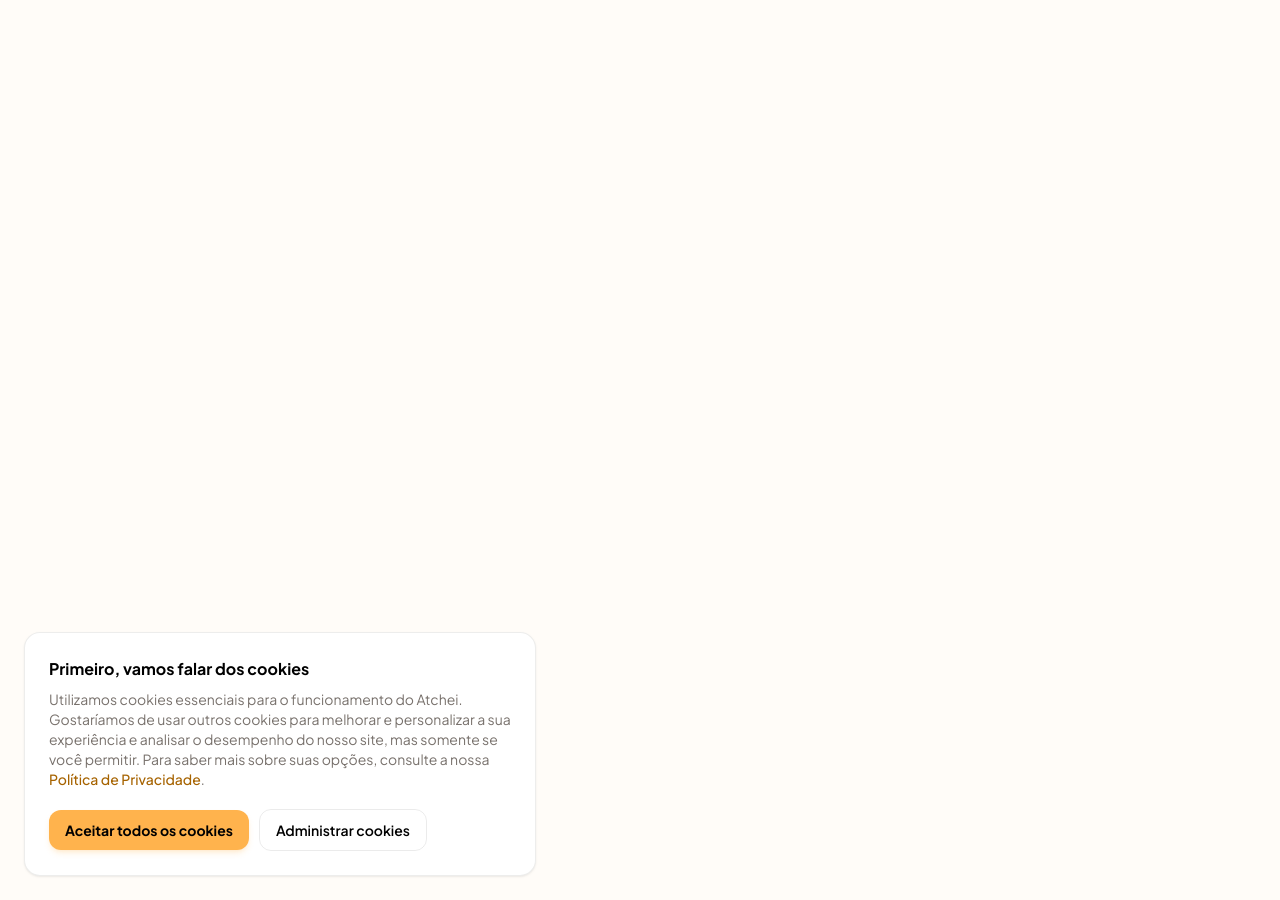
CookieBanner Component › opens preferences modal when clicking "Administrar cookies"
The width and height of the screenshot is (1280, 900).
Click the button "Administrar cookies" at (343, 830), box [259, 809, 427, 851]
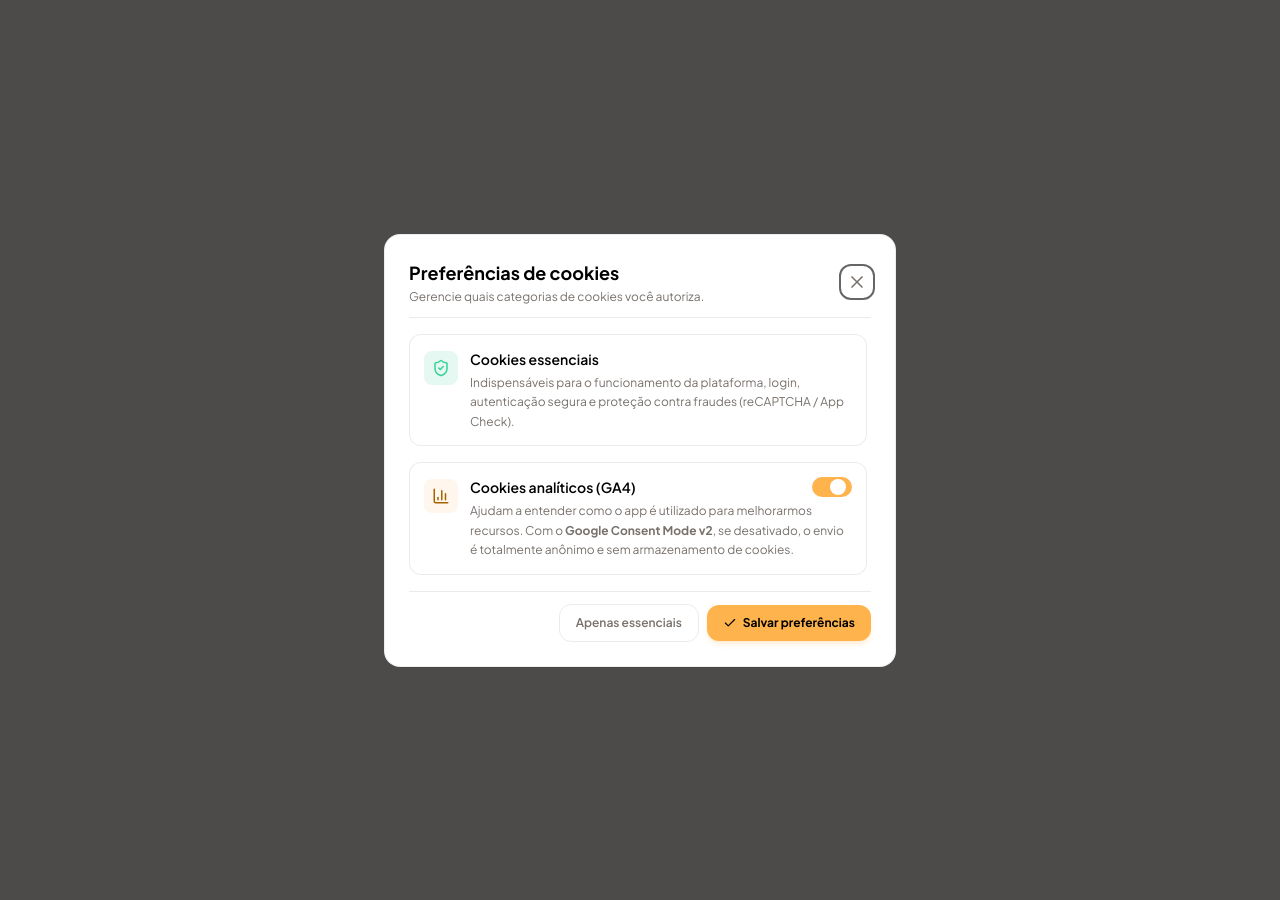
Expected: the text "Cookies essenciais" is shown, [470, 348, 599, 368]
Now the heading "Preferências de cookies" is shown, box [409, 260, 619, 284]
Now the text "Cookies analíticos (GA4)" is shown, box [470, 477, 636, 497]
